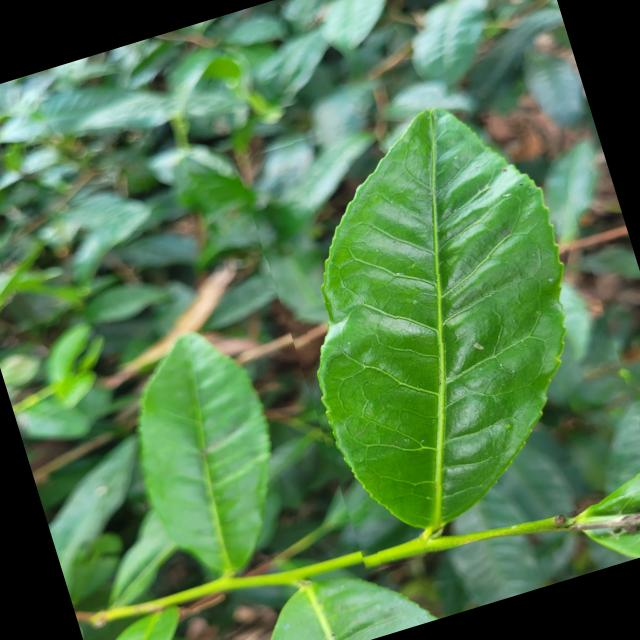Category D(7+ days, Not for Tea): (233, 65, 640, 575)
